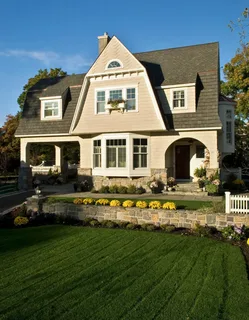private_hause: (16, 48, 226, 194)
